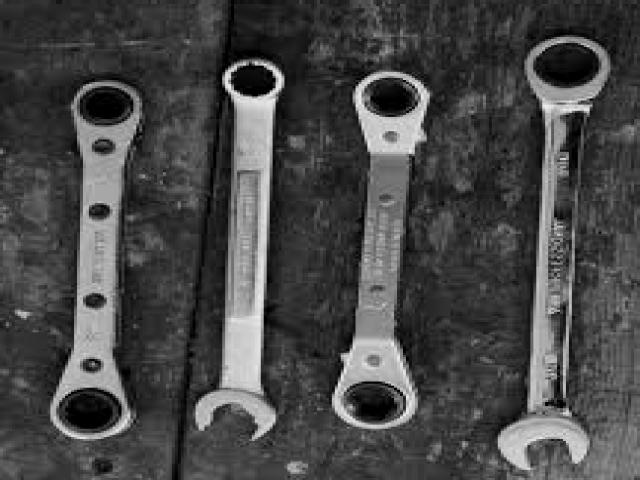Wrench: (497, 35, 611, 470), (332, 72, 431, 429), (194, 59, 284, 440), (50, 80, 142, 440)
